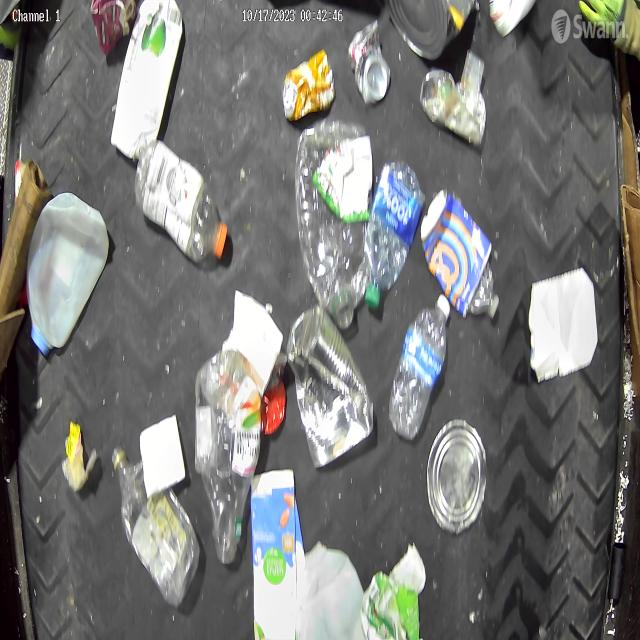can: (286, 304, 374, 469), (428, 421, 486, 534), (386, 0, 476, 60), (282, 47, 336, 123), (347, 17, 392, 107)
milk_jug: (26, 191, 110, 358), (294, 543, 367, 640)
plastic_bottle: (294, 113, 374, 330), (195, 347, 265, 570), (110, 442, 198, 605), (136, 138, 230, 266), (388, 294, 451, 436), (365, 158, 425, 304)
